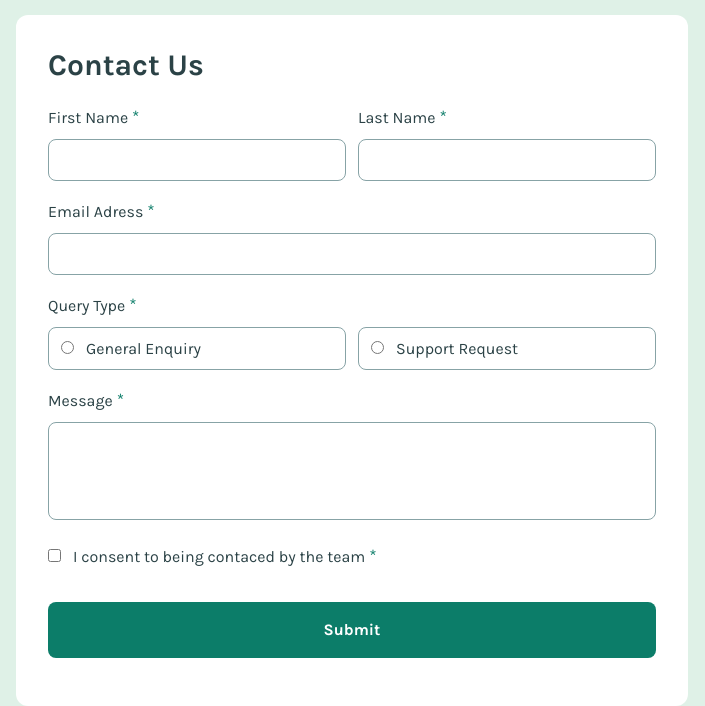
Test: MyForm › should return invalid Email adress
Type "user@yahoo.com" into the field labelled "Email Adress*" at (352, 254), box [48, 232, 656, 274]
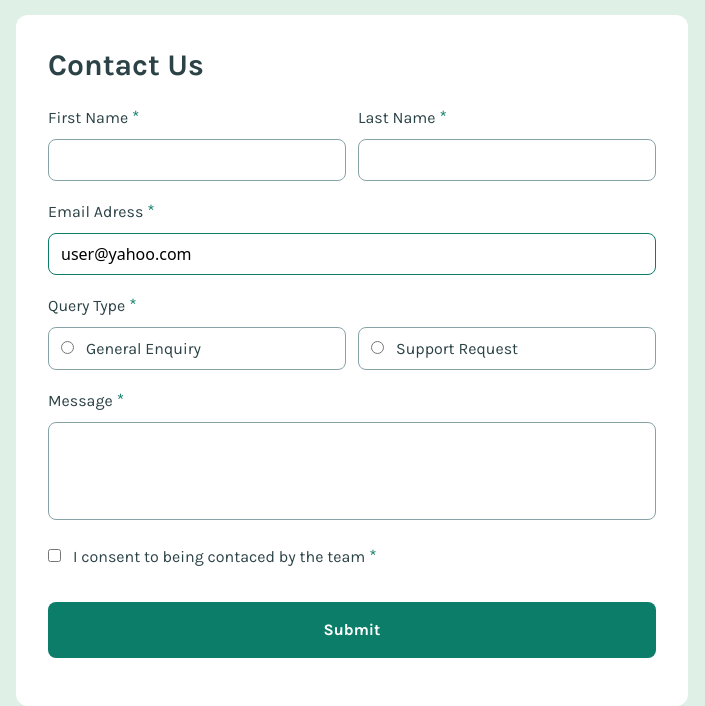
Click the button "Submit" at (352, 630), box [48, 602, 656, 658]
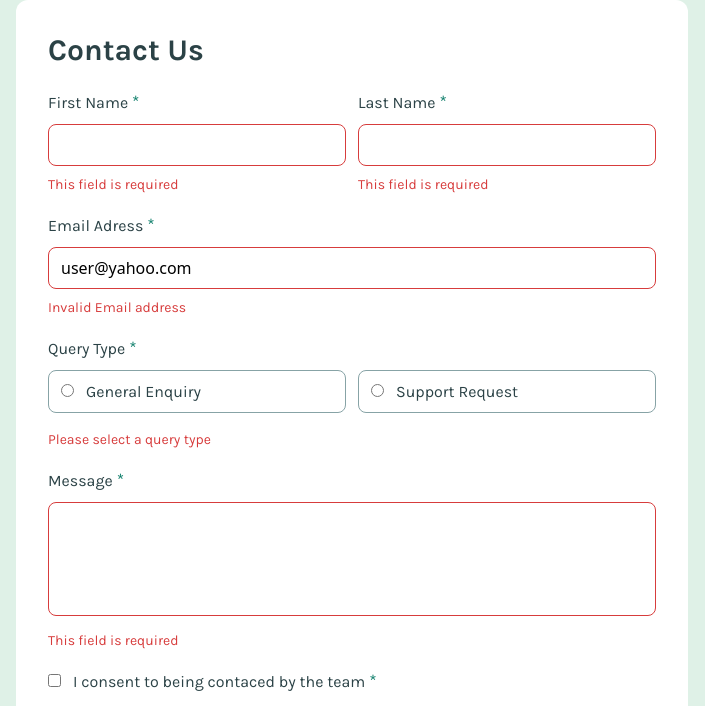
Now the text "Invalid Email address" is shown, box [48, 299, 186, 316]
